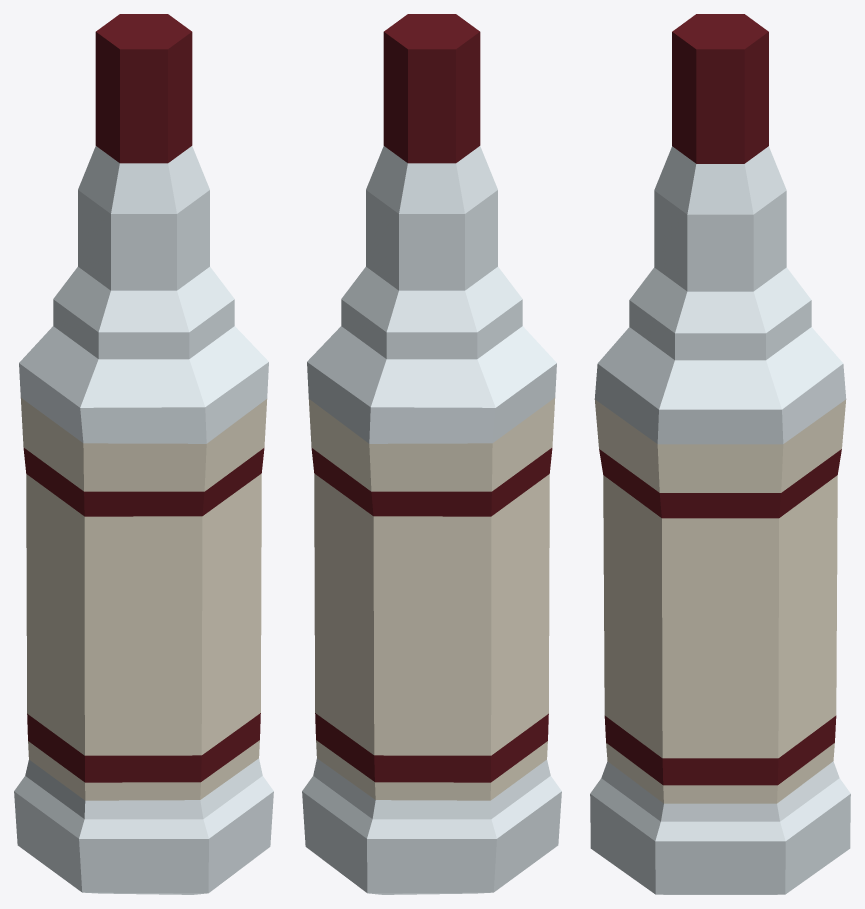
The model's file is Whisky_Bottle_01.fbx.
3 renders of one model, left to right at view 1: azimuth 30°, elevation 25°; view 2: azimuth 150°, elevation 25°; view 3: azimuth 270°, elevation 25°, orthographic.
Parts seen in each view (by area): view 1: Whisky_BottleGlass_01; view 2: Whisky_BottleGlass_01; view 3: Whisky_BottleGlass_01.
Part boxes in pixels (<box>): Whisky_BottleGlass_01: <box>14,14,273,894</box>; Whisky_BottleGlass_01: <box>302,14,561,894</box>; Whisky_BottleGlass_01: <box>590,14,850,894</box>.
Bounding box in the file's own units: 0.116 × 0.4706 × 0.1339.
